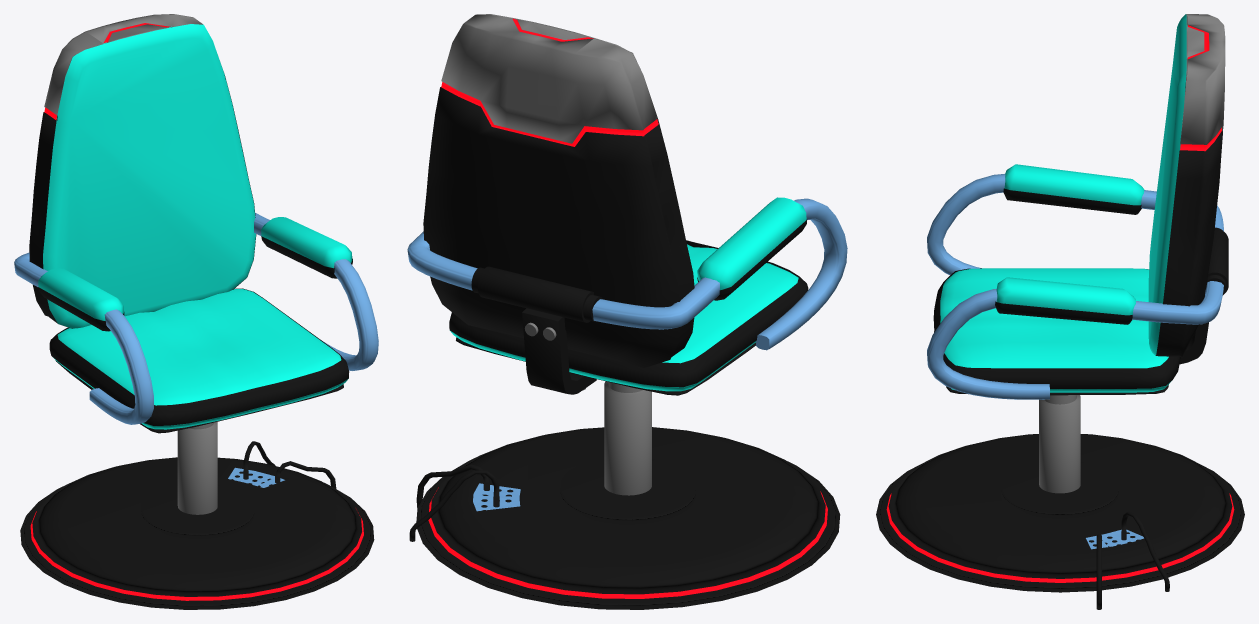
File: chair_tier19.fbx
3 renders of one model, left to right at view 1: azimuth 30°, elevation 25°; view 2: azimuth 150°, elevation 25°; view 3: azimuth 270°, elevation 25°, orthographic. The views are drawn at different scales.
Visible parts, largest first — view 1: Plane, Cylinder.003, Cube, BezierCurve, Cube.001, Cylinder.002, Cylinder.001, Cube.004, Cube.002, Cube.007, Cube.006, Cube.003; view 2: Plane, Cylinder.003, BezierCurve, Cube.001, Cylinder.002, Cube, Cylinder.001, Cube.002, Cylinder.004, Cube.005, Cube.006, Cube.003; view 3: Cylinder.003, Plane, Cube, BezierCurve, Cylinder.002, Cube.001, Cylinder.001, Cube.004, Cube.002, Cube.006, Cube.007, Cylinder.004 (+1 smaller).
Part boxes in pixels (left/top/right/bottom): Plane: left=29, top=14, right=256, bottom=328; Cylinder.003: left=20, top=441, right=374, bottom=609; Cube: left=53, top=289, right=348, bottom=429; BezierCurve: left=14, top=212, right=378, bottom=424; Cube.001: left=49, top=288, right=349, bottom=425; Cylinder.002: left=141, top=484, right=254, bottom=539; Cylinder.001: left=177, top=421, right=217, bottom=514; Cube.004: left=261, top=217, right=352, bottom=268; Cube.002: left=38, top=268, right=123, bottom=320; Cube.007: left=261, top=236, right=352, bottom=278; Cube.006: left=38, top=287, right=124, bottom=331; Cube.003: left=55, top=360, right=343, bottom=433; Plane: left=423, top=14, right=694, bottom=367; Cylinder.003: left=409, top=427, right=840, bottom=609; BezierCurve: left=407, top=198, right=847, bottom=350; Cube.001: left=449, top=240, right=808, bottom=387; Cylinder.002: left=560, top=458, right=695, bottom=524; Cube: left=450, top=244, right=798, bottom=391; Cylinder.001: left=604, top=381, right=651, bottom=495; Cube.002: left=697, top=197, right=806, bottom=290; Cylinder.004: left=471, top=266, right=602, bottom=322; Cube.005: left=522, top=308, right=596, bottom=394; Cube.006: left=697, top=219, right=807, bottom=300; Cube.003: left=456, top=337, right=755, bottom=395; Cylinder.003: left=876, top=434, right=1244, bottom=609; Plane: left=1148, top=14, right=1225, bottom=357; Cube: left=940, top=268, right=1171, bottom=392; BezierCurve: left=927, top=174, right=1223, bottom=399; Cylinder.002: left=1001, top=461, right=1118, bottom=518; Cube.001: left=933, top=268, right=1180, bottom=388; Cylinder.001: left=1039, top=395, right=1080, bottom=493; Cube.004: left=996, top=277, right=1135, bottom=315; Cube.002: left=1004, top=164, right=1144, bottom=205; Cube.006: left=1003, top=188, right=1141, bottom=214; Cube.007: left=995, top=301, right=1132, bottom=324; Cylinder.004: left=1206, top=227, right=1228, bottom=295.
Size of the model in its own units: 98.17 by 142 by 96.91.
